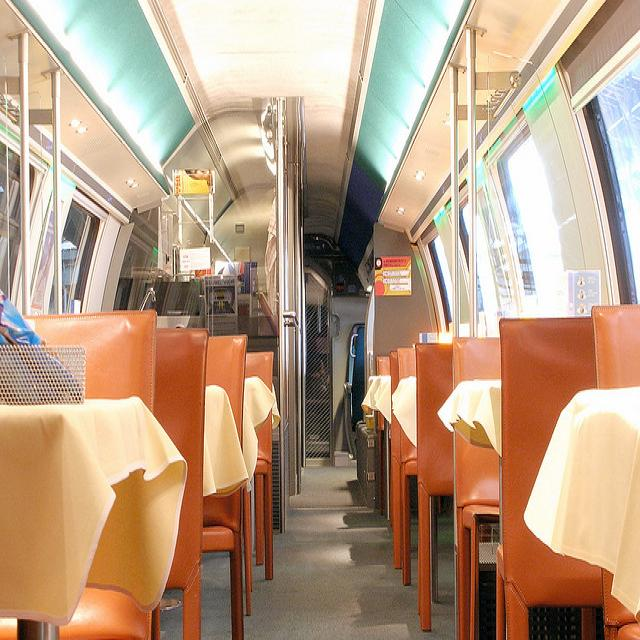chair: (496, 319, 603, 633), (152, 328, 210, 640), (451, 338, 502, 631), (22, 310, 157, 413), (201, 335, 246, 632), (418, 348, 452, 628), (390, 348, 419, 585), (247, 352, 274, 576), (591, 305, 640, 389), (375, 356, 392, 523)
dining table: (0, 393, 188, 623), (522, 375, 640, 617), (203, 385, 248, 500), (439, 379, 500, 459), (242, 376, 276, 492), (1, 394, 139, 420), (362, 378, 390, 423), (393, 375, 417, 410), (272, 383, 280, 430), (245, 375, 259, 388)
